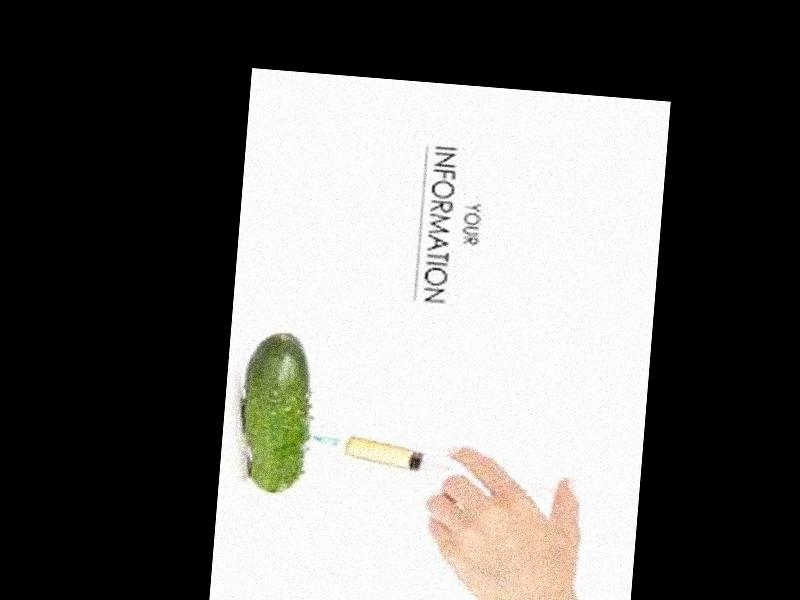Cucumber: (239, 331, 317, 497)
